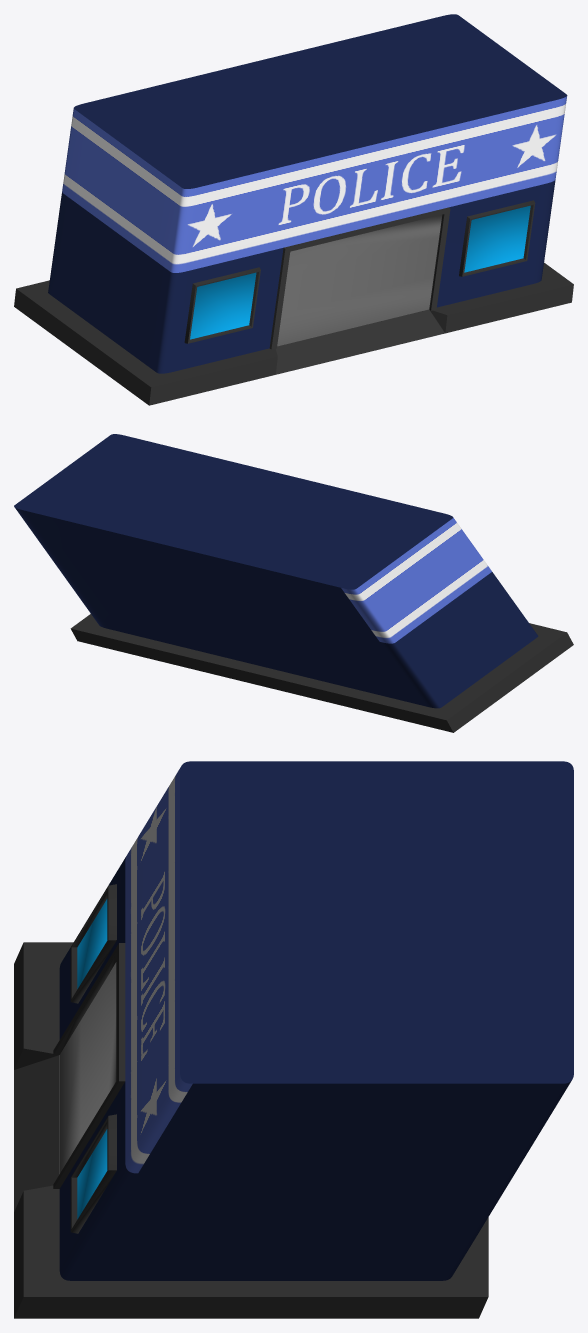
The model's file is PoliceGarage.fbx.
3 views of the same model, one above another, from view 1: azimuth 30°, elevation 25°; view 2: azimuth 150°, elevation 25°; view 3: azimuth 270°, elevation 25° (orthographic). The views are drawn at different scales.
Visible parts, largest first — view 1: PoliceBuilding; view 2: PoliceBuilding; view 3: PoliceBuilding.
Part boxes in pixels (box(x1,y1,x2,y2)): PoliceBuilding: box(14, 14, 573, 405); PoliceBuilding: box(14, 434, 573, 732); PoliceBuilding: box(14, 761, 573, 1318).
Size of the model in its own units: 610 by 367 by 198.
